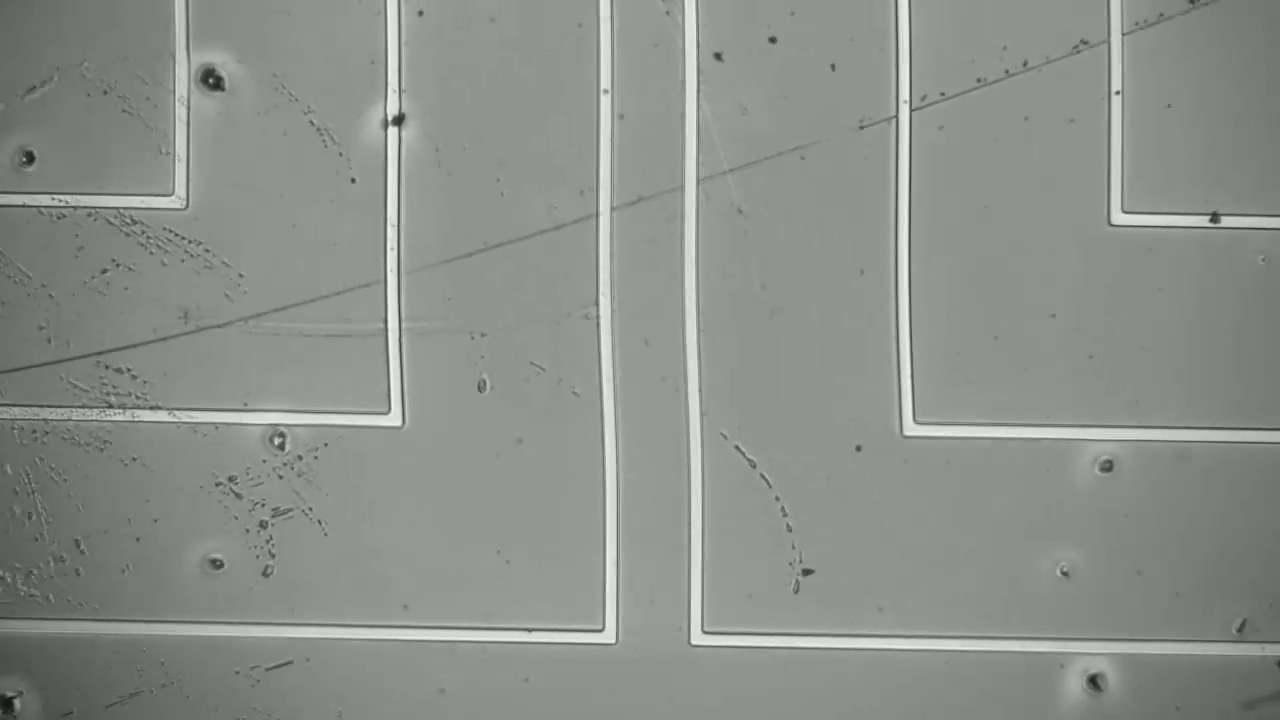scratch: (6, 10, 1198, 384), (714, 433, 812, 590)
stains_enbedded: (377, 100, 416, 147), (1204, 205, 1227, 236)
